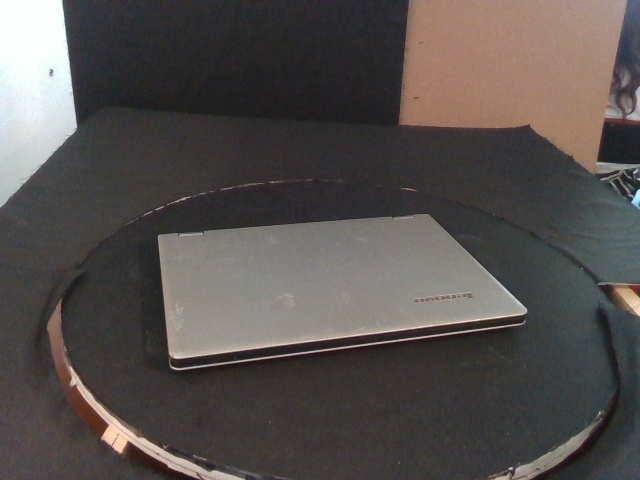laptop: (157, 213, 528, 373)
